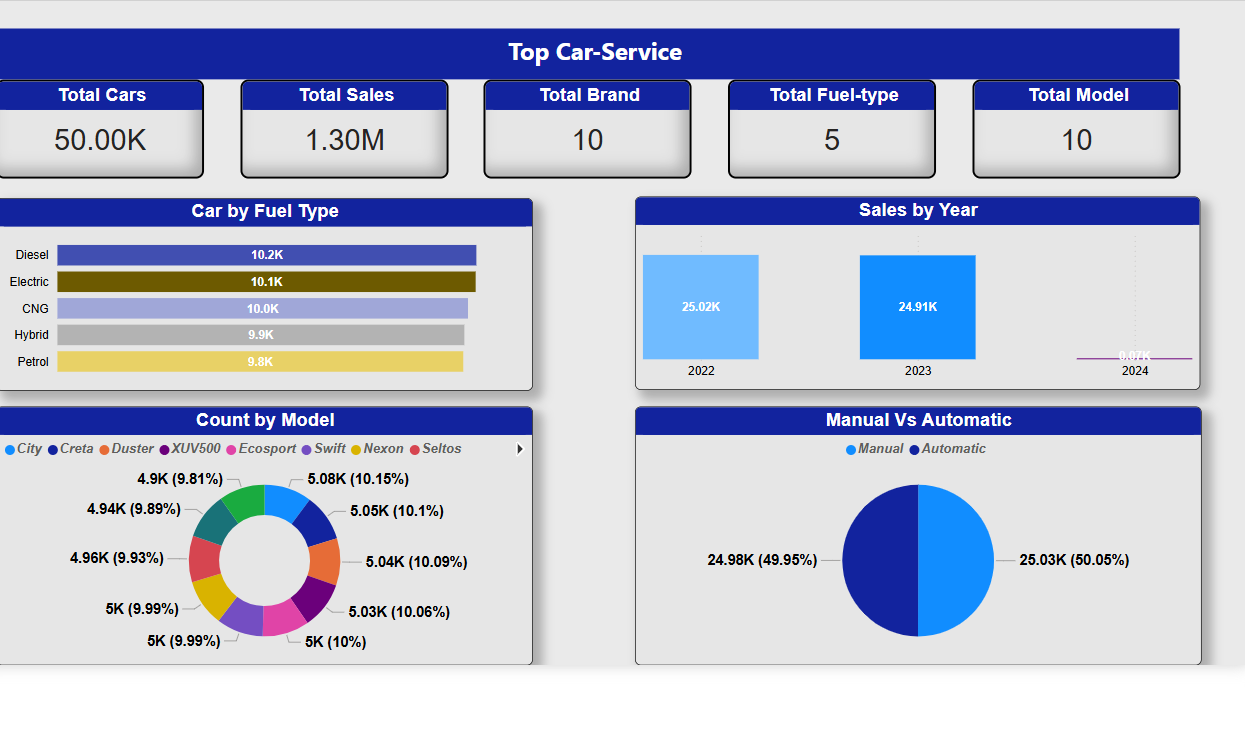

Layout of this report page (visuals, bound fields, positions):
{"tool":"powerbi","page":{"name":"Page 1","canvas":[1280,720],"ordinal":0},"visuals":[{"type":"card","title":"Total Cars","fields":{"Values":["Count(MASTER_CAR_DATA.Car_ID)"]},"box":[14.7,128.7,210,100],"z":0,"group":"g1"},{"type":"barChart","title":"Car by Fuel Type","fields":{"Category":["MASTER_CAR_DATA.Fuel_Type"],"Y":["Count(MASTER_CAR_DATA.Car_ID)"]},"box":[14.7,248.2,542.3,194.9],"z":0},{"type":"card","title":"Total Sales","fields":{"Values":["Sum(MASTER_CAR_DATA.Sale_Price_Lakh)"]},"box":[261,128.7,210,100],"z":1000,"group":"g1"},{"type":"columnChart","title":"Sales by Year","fields":{"Y":["CountNonNull(MASTER_CAR_DATA.Brand)"],"Category":["MASTER_CAR_DATA.Sale_Date.Variation.Date Hierarchy.Year"]},"box":[659.9,248.2,571.7,194.9],"z":1000},{"type":"card","title":"Total Brand","fields":{"Values":["Count(MASTER_CAR_DATA.Brand)"]},"box":[507.3,128.7,210,100],"z":2000,"group":"g1"},{"type":"donutChart","title":"Count by Model","fields":{"Category":["MASTER_CAR_DATA.Model"],"Y":["CountNonNull(MASTER_CAR_DATA.Car_ID)"]},"box":[14.7,459.6,542.3,261],"z":2000},{"type":"card","title":"Total Fuel-type","fields":{"Values":["Count(MASTER_CAR_DATA.Fuel_Type)"]},"box":[753.7,128.7,210,100],"z":3000,"group":"g1"},{"type":"pieChart","title":"Manual Vs Automatic","fields":{"Category":["MASTER_CAR_DATA.Transmission"],"Y":["CountNonNull(MASTER_CAR_DATA.Car_ID)"]},"box":[659.9,459.6,571.7,261],"z":3000},{"type":"card","title":"Total Model","fields":{"Values":["Count(MASTER_CAR_DATA.Model)"]},"box":[1000,128.7,210,100],"z":4000,"group":"g1"},{"type":"group","id":"g1","title":"Group 1","box":[14.7,128.7,1194.8,99.3],"z":4000},{"type":"textbox","box":[14.7,77.2,1194.8,51.5],"z":5000}]}

Visuals, with their boxes on the page's 1280x720 design canvas (x1, y1, x2, y2). These are canvas units, not pixel positions in the 1245x747 screenshot, which may show the page scaled, cropped or inside an application window:
"Total Cars" card: (15, 129, 225, 229)
"Car by Fuel Type" barChart: (15, 248, 557, 443)
"Total Sales" card: (261, 129, 471, 229)
"Sales by Year" columnChart: (660, 248, 1232, 443)
"Total Brand" card: (507, 129, 717, 229)
"Count by Model" donutChart: (15, 460, 557, 721)
"Total Fuel-type" card: (754, 129, 964, 229)
"Manual Vs Automatic" pieChart: (660, 460, 1232, 721)
"Total Model" card: (1000, 129, 1210, 229)
"Group 1" group: (15, 129, 1210, 228)
textbox: (15, 77, 1210, 129)
